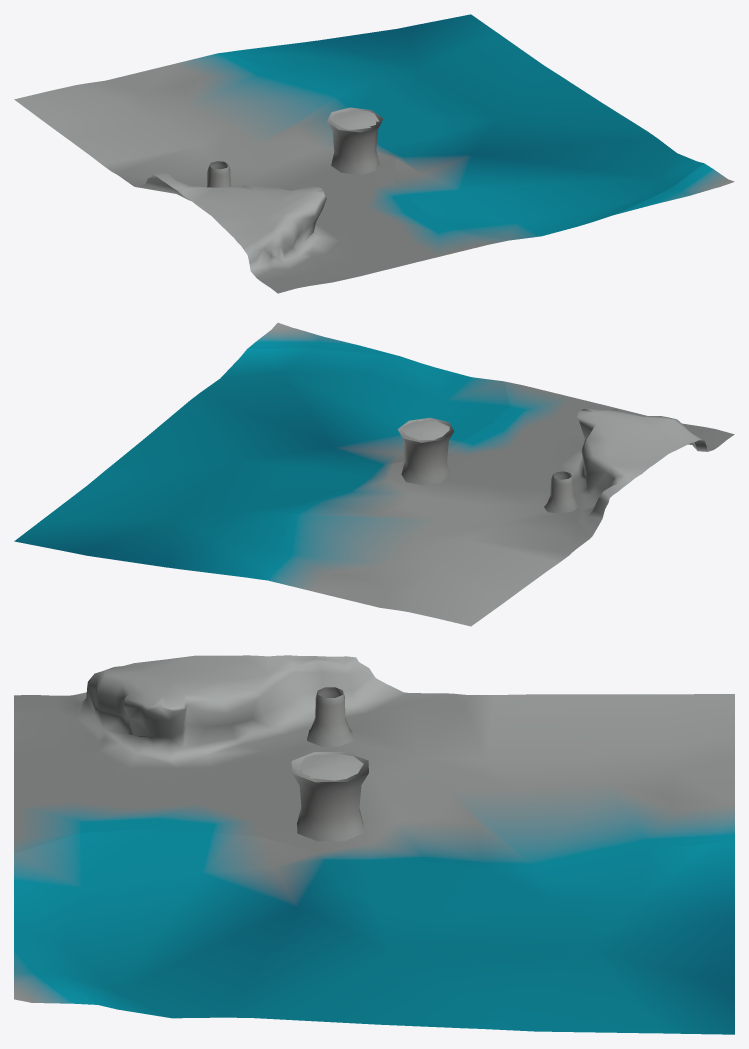
3 renders of one model, top to bottom at view 1: azimuth 30°, elevation 25°; view 2: azimuth 150°, elevation 25°; view 3: azimuth 270°, elevation 25°, orthographic. The views are drawn at different scales.
Parts seen in each view (by area): view 1: G:\FFXIV-MapTools\exports\s1f3\bg\ffxiv\sea_s1\fld\s1f3\bgpl (×13); view 2: G:\FFXIV-MapTools\exports\s1f3\bg\ffxiv\sea_s1\fld\s1f3\bgpl (×12); view 3: G:\FFXIV-MapTools\exports\s1f3\bg\ffxiv\sea_s1\fld\s1f3\bgpl (×14).
Part boxes in pixels (x1,y1,x2,y2): G:\FFXIV-MapTools\exports\s1f3\bg\ffxiv\sea_s1\fld\s1f3\bgpl (×13): (14,14,734,293); G:\FFXIV-MapTools\exports\s1f3\bg\ffxiv\sea_s1\fld\s1f3\bgpl (×12): (14,322,734,626); G:\FFXIV-MapTools\exports\s1f3\bg\ffxiv\sea_s1\fld\s1f3\bgpl (×14): (14,655,734,1034).
Size of the model in its own units: 128 by 18.65 by 128.
